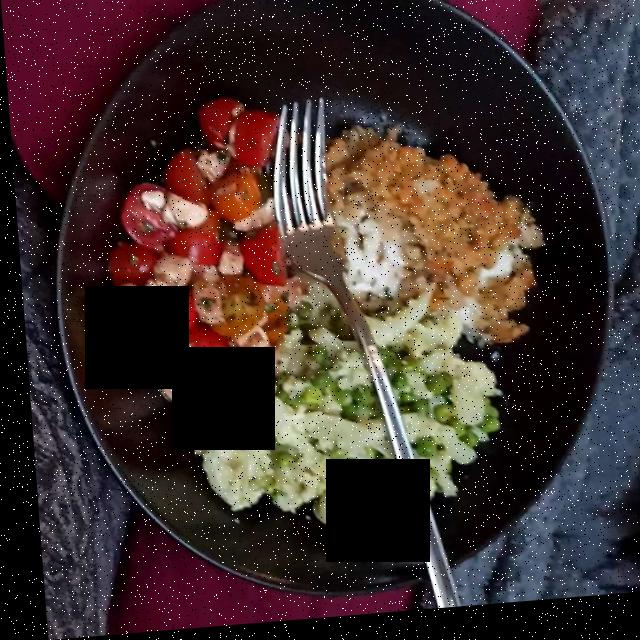caprese-salad-tomato-mozzarella: (99, 108, 283, 426)
cauliflower: (211, 334, 484, 533)
